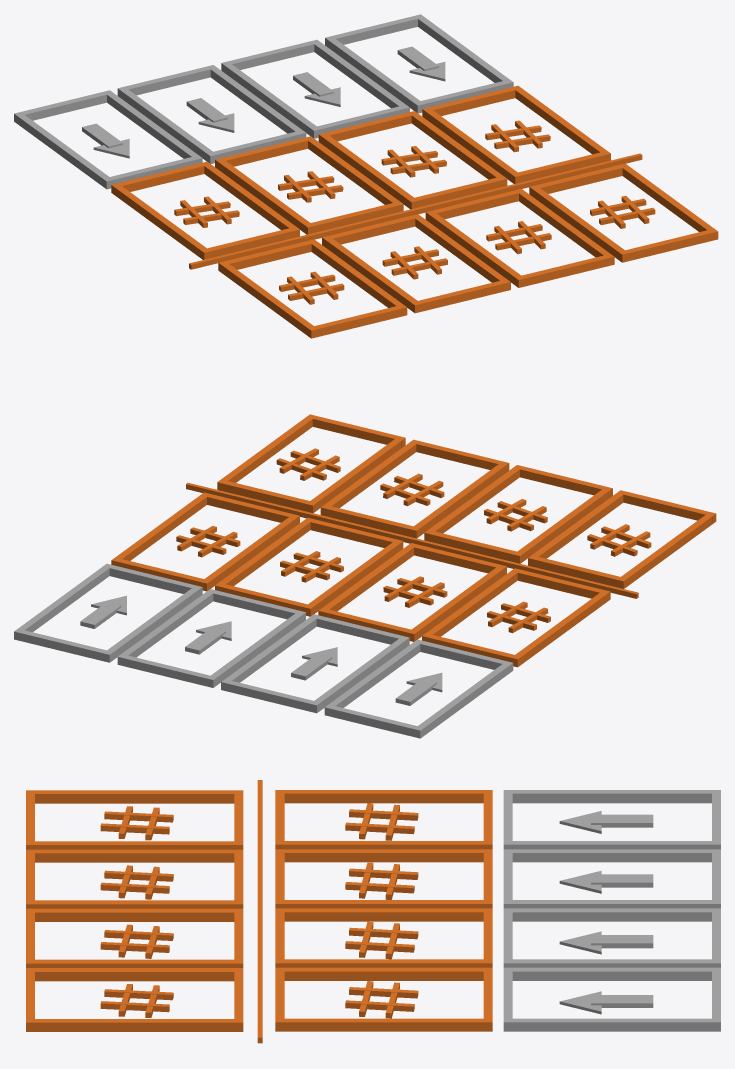
File: board_hitboxes.glb
3 renders of one model, top to bottom at view 1: azimuth 30°, elevation 25°; view 2: azimuth 150°, elevation 25°; view 3: azimuth 270°, elevation 25°, orthographic. The views are drawn at different scales.
Visible parts, largest first — view 1: Player_Set_Row, AI_Set_Row, AI_Approaching_Row, Divider; view 2: Player_Set_Row, AI_Approaching_Row, AI_Set_Row, Divider; view 3: AI_Set_Row, Player_Set_Row, AI_Approaching_Row, Divider.
Boxes of the visible parts, box(x1,y1,x2,y2) form: Player_Set_Row: box(218, 163, 718, 338); AI_Set_Row: box(111, 85, 610, 259); AI_Approaching_Row: box(14, 14, 513, 189); Divider: box(189, 153, 642, 269); Player_Set_Row: box(217, 414, 716, 588); AI_Approaching_Row: box(14, 563, 513, 738); AI_Set_Row: box(111, 492, 610, 667); Divider: box(186, 482, 638, 598); AI_Set_Row: box(275, 790, 492, 1031); Player_Set_Row: box(26, 790, 243, 1031); AI_Approaching_Row: box(503, 790, 720, 1031); Divider: box(257, 780, 262, 1043).
Size of the model in its own units: 176 by 17.99 by 204.
